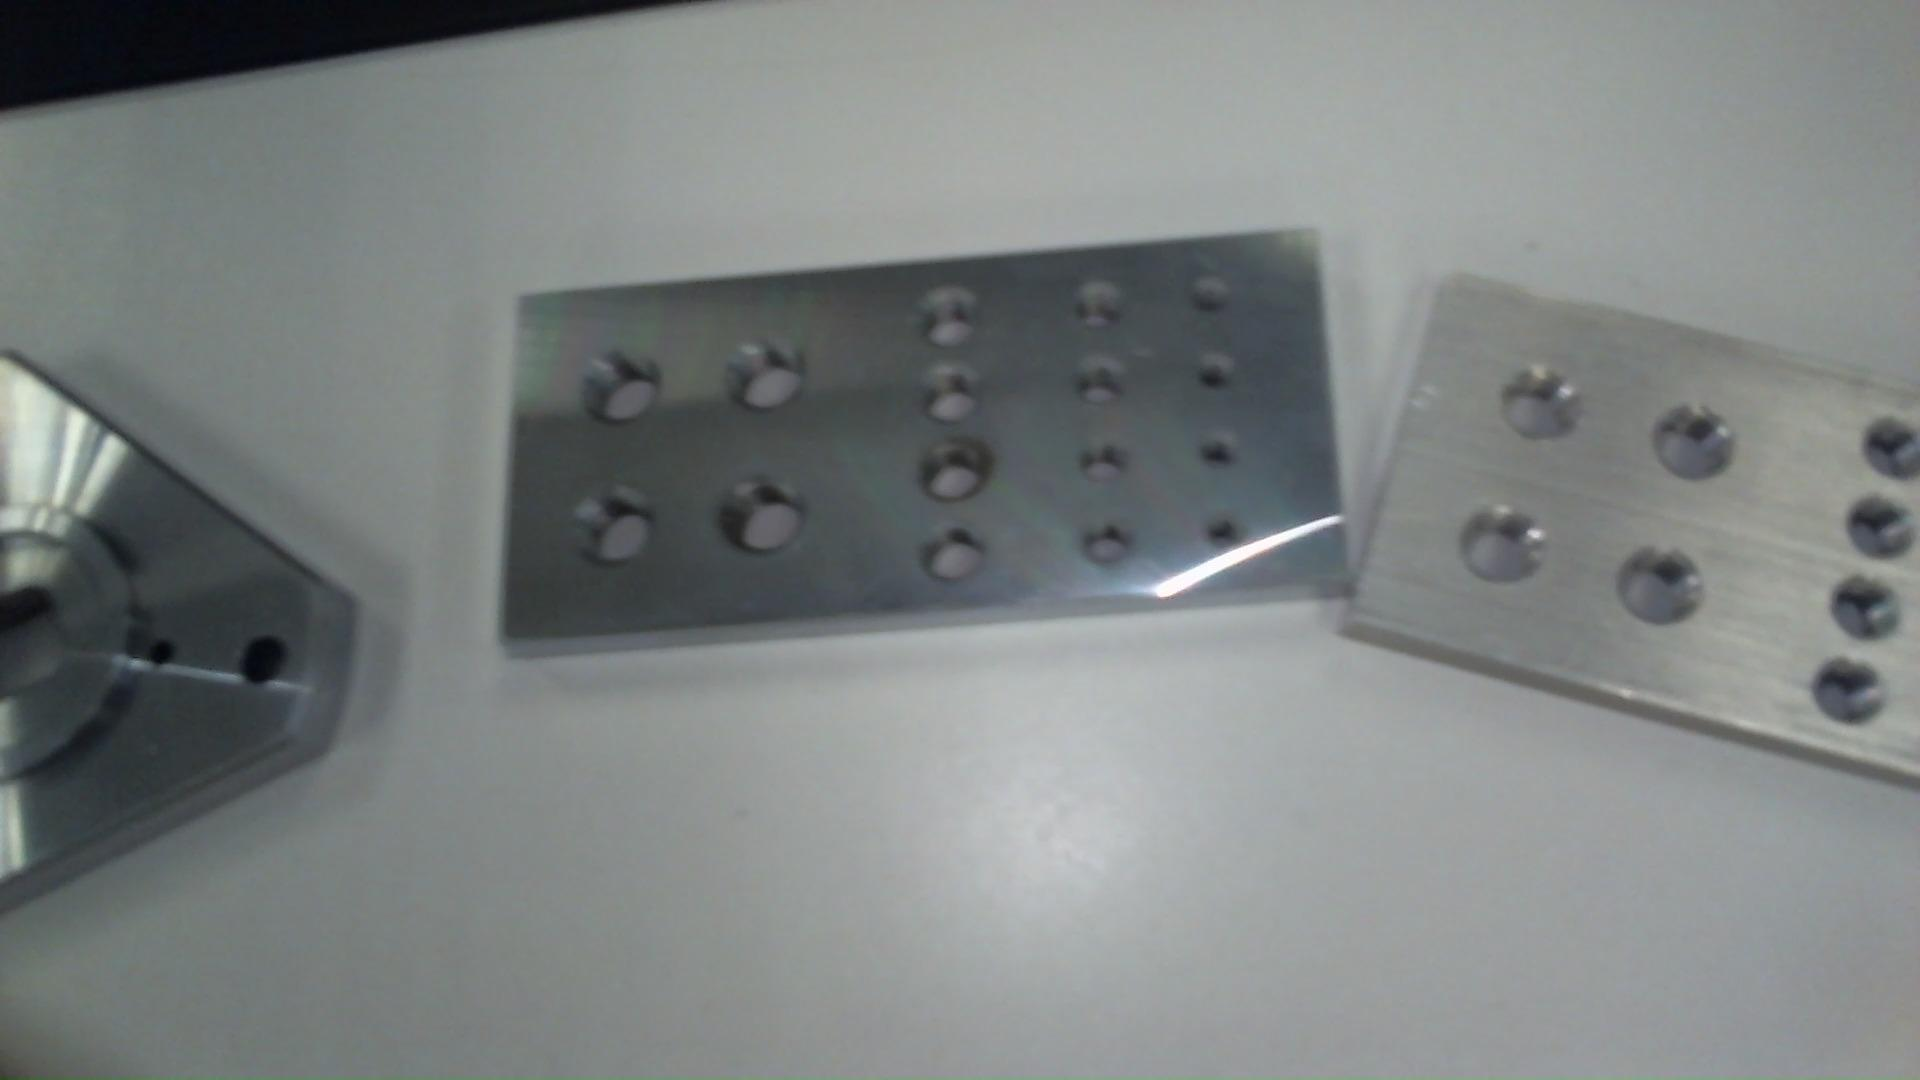hole: (564, 488, 665, 587), (720, 473, 808, 567), (720, 328, 812, 417), (587, 345, 674, 438), (1499, 356, 1582, 451), (1464, 510, 1557, 593), (1618, 547, 1704, 636), (1651, 397, 1741, 481), (915, 436, 1001, 512), (1832, 579, 1907, 646), (909, 285, 986, 347), (907, 363, 992, 419), (922, 518, 996, 583), (1084, 517, 1156, 580), (1844, 498, 1919, 559), (1815, 659, 1882, 727), (231, 630, 295, 694), (1182, 342, 1240, 409), (1859, 417, 1920, 480), (1071, 278, 1134, 330), (1073, 435, 1134, 485), (1204, 506, 1254, 563), (1188, 273, 1238, 323), (1077, 363, 1125, 410), (1191, 435, 1238, 477), (142, 637, 181, 676)
